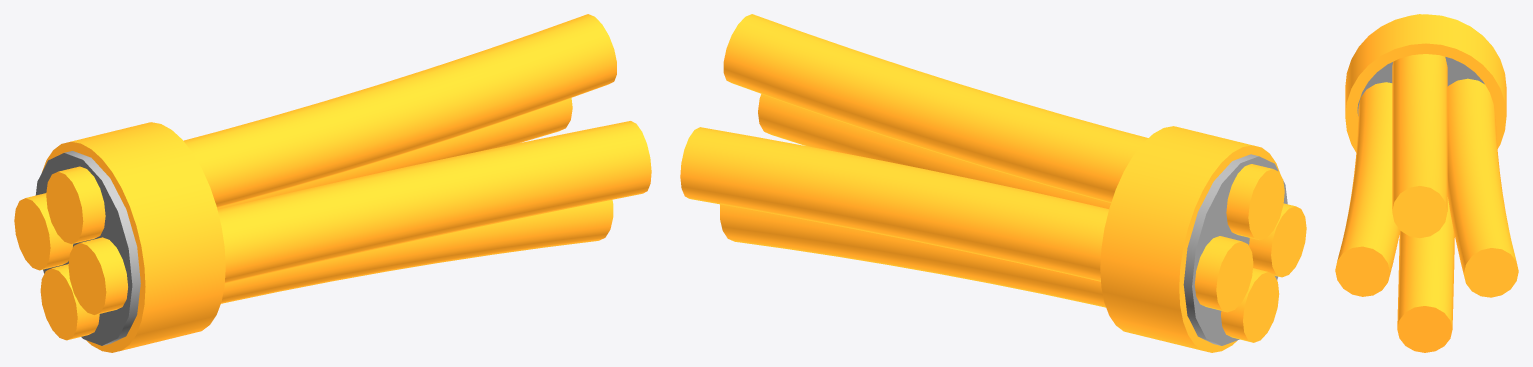
Rendered from cabel1.fbx.
3 renders of one model, left to right at view 1: azimuth 30°, elevation 25°; view 2: azimuth 150°, elevation 25°; view 3: azimuth 270°, elevation 25°, orthographic. The views are drawn at different scales.
Visible parts, largest first — view 1: 5, 3, 1, 4, 2, 6; view 2: 2, 3, 1, 4, 5, 6; view 3: 2, 3, 5, 1, 4, 6.
Part boxes in pixels (x1,y1,x2,y2): 5: [68, 121, 651, 315]; 3: [46, 14, 616, 244]; 1: [42, 122, 225, 352]; 4: [40, 199, 613, 340]; 2: [14, 98, 572, 270]; 6: [35, 151, 140, 345]; 2: [680, 127, 1253, 312]; 3: [723, 14, 1284, 240]; 1: [1100, 126, 1279, 352]; 4: [720, 204, 1279, 342]; 5: [758, 94, 1306, 277]; 6: [1183, 154, 1287, 345]; 2: [1447, 78, 1518, 297]; 3: [1392, 14, 1447, 238]; 5: [1335, 82, 1400, 296]; 1: [1345, 14, 1506, 152]; 4: [1397, 197, 1454, 352]; 6: [1357, 57, 1484, 115].
Size of the model in its own units: 20.11 by 8 by 7.97.
